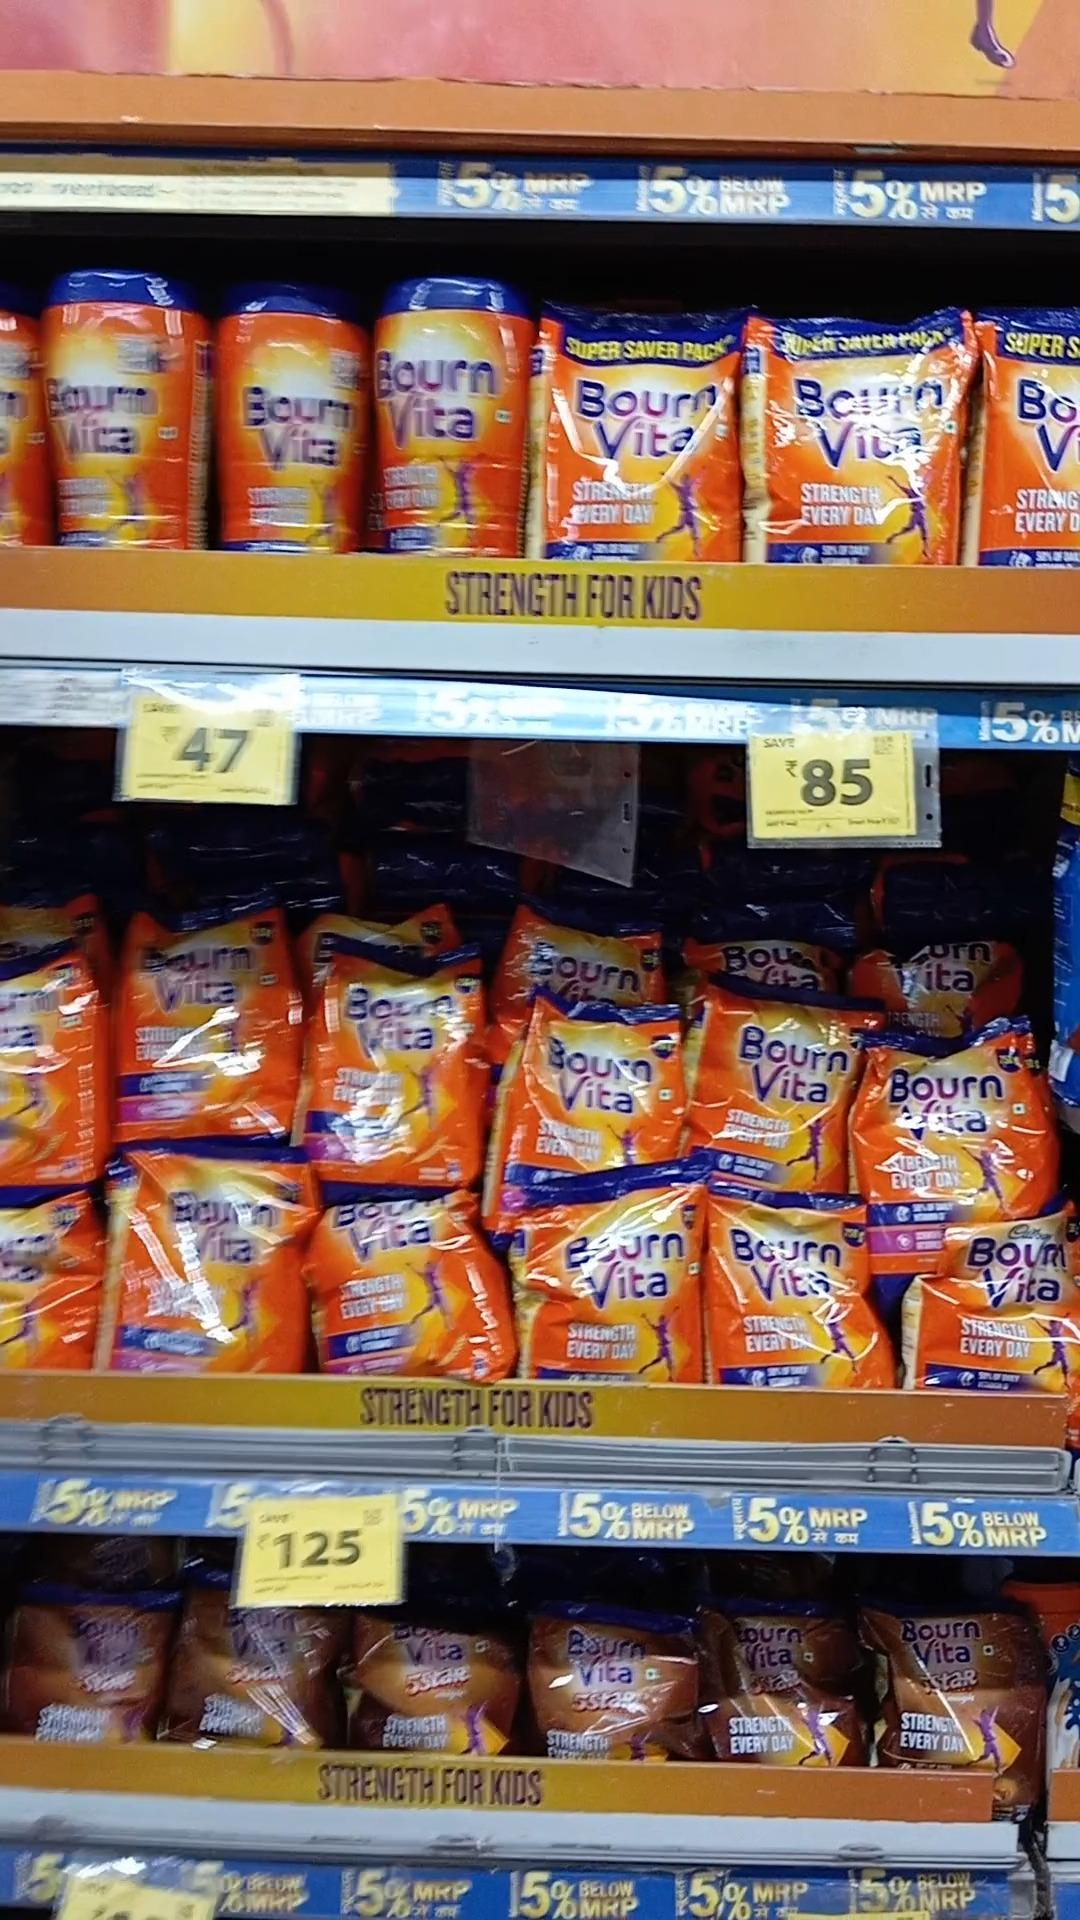BOURN_VITA_1_KG_JAR: (38, 251, 181, 549), (376, 274, 514, 553), (215, 286, 357, 553)
BOURN_VITA_750_G_POUCH: (115, 909, 303, 1142), (117, 1147, 311, 1373), (319, 960, 476, 1188), (866, 1035, 1048, 1229), (531, 1193, 696, 1385), (709, 1197, 868, 1395), (700, 989, 852, 1180), (326, 1199, 485, 1378), (927, 1217, 1080, 1400), (524, 1004, 674, 1180)
BOURN_VITA_FIVE_STAR_MAGIC_500_G_POUCH: (707, 1602, 865, 1775), (881, 1607, 1039, 1775), (351, 1607, 517, 1758), (179, 1589, 334, 1750), (538, 1611, 688, 1767), (17, 1590, 166, 1745)
